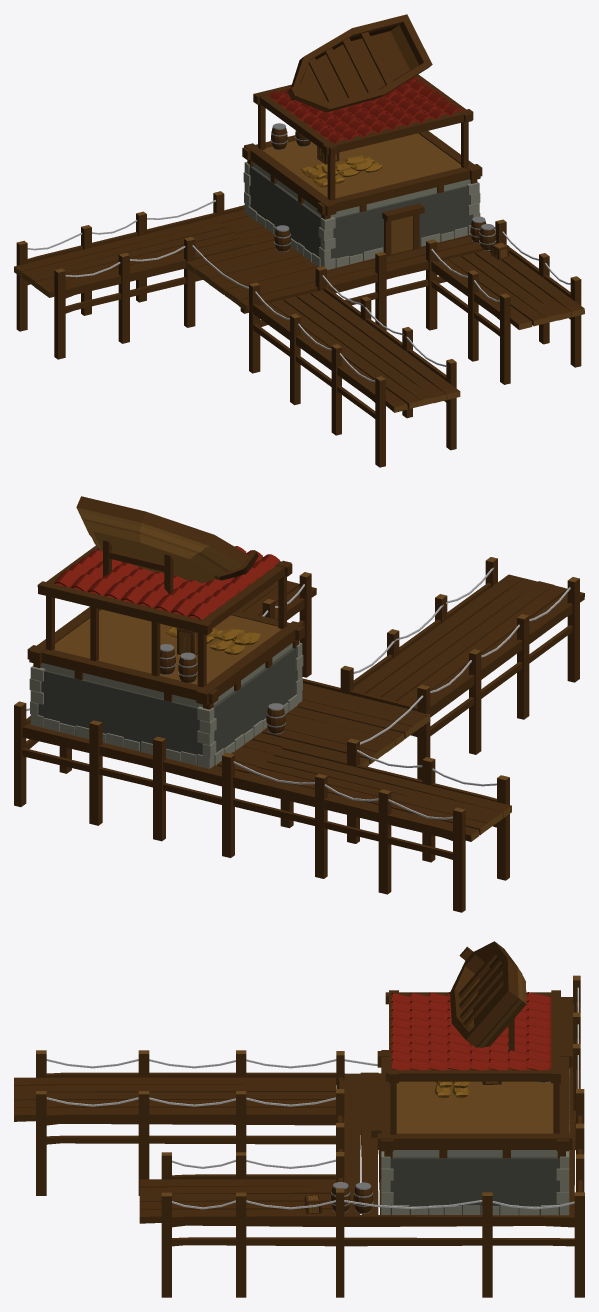
File: port.fbx
3 renders of one model, top to bottom at view 1: azimuth 30°, elevation 25°; view 2: azimuth 150°, elevation 25°; view 3: azimuth 270°, elevation 25°, orthographic. The views are drawn at different scales.
Parts seen in each view (by area): view 1: Port_SecondAge_Level3; view 2: Port_SecondAge_Level3; view 3: Port_SecondAge_Level3.
Boxes of the visible parts, x1=… form: Port_SecondAge_Level3: x1=14, y1=14, x2=584, y2=467; Port_SecondAge_Level3: x1=14, y1=496, x2=584, y2=912; Port_SecondAge_Level3: x1=14, y1=941, x2=584, y2=1297.
Size of the model in its own units: 266 by 163 by 288.
